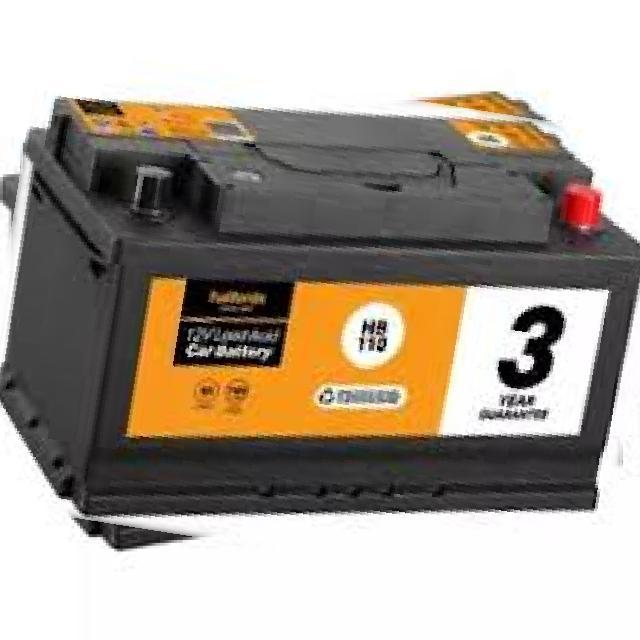Battery: (0, 91, 639, 516)
